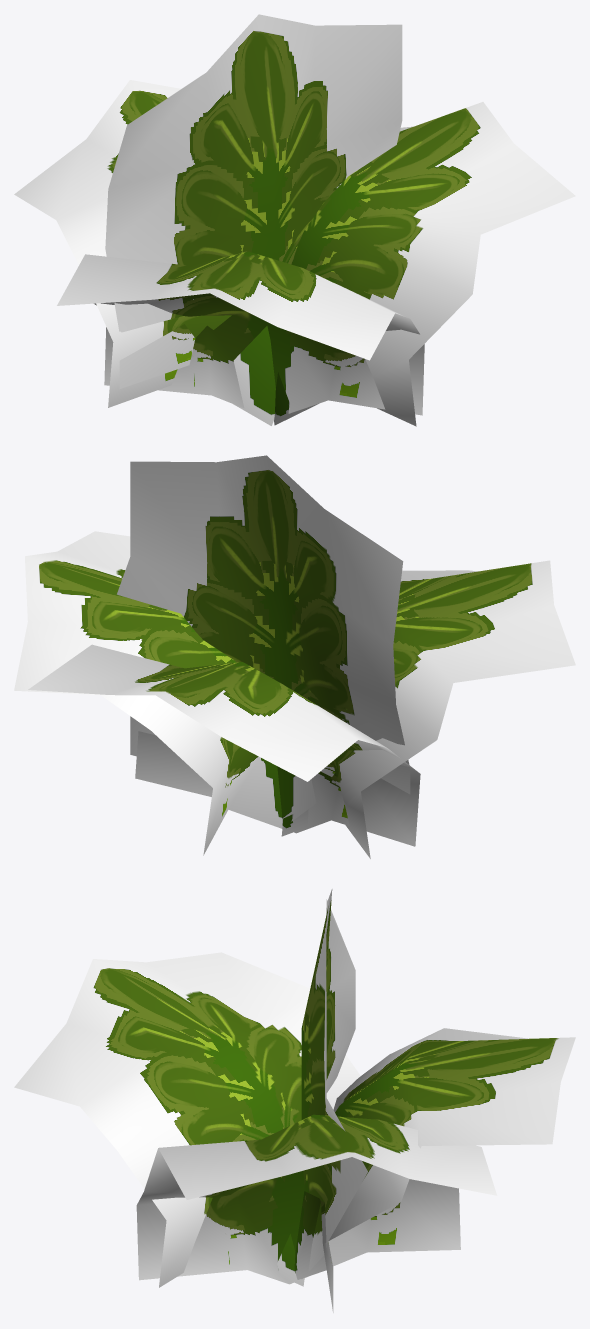
Rendered from Plant_2.fbx.
3 renders of one model, top to bottom at view 1: azimuth 30°, elevation 25°; view 2: azimuth 150°, elevation 25°; view 3: azimuth 270°, elevation 25°, orthographic.
Visible parts, largest first — view 1: Plant_2; view 2: Plant_2; view 3: Plant_2.
Part boxes in pixels (x1,y1,x2,y2): Plant_2: (14, 14, 575, 426); Plant_2: (14, 455, 575, 858); Plant_2: (14, 889, 575, 1312).
Bounding box in the file's own units: 1.78 × 1.33 × 1.7.
